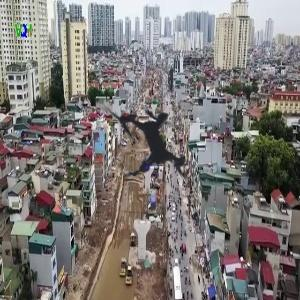drone: (65, 58, 235, 228)
